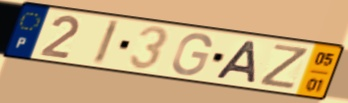2: (37, 14, 81, 61)
3: (128, 25, 172, 73)
A: (213, 39, 259, 86)
G: (169, 31, 214, 77)
I: (90, 18, 122, 67)
Z: (257, 42, 312, 91)
